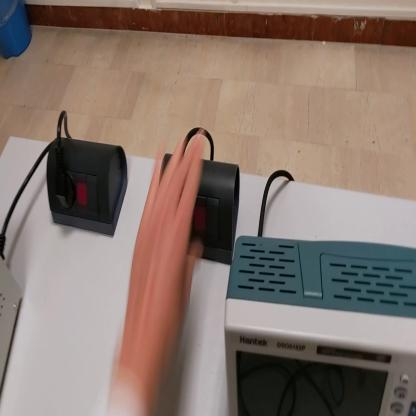hand: (116, 128, 205, 384)
oscilloscope: (225, 238, 416, 416)
power supply: (1, 249, 24, 394)
socket: (161, 151, 240, 270), (47, 138, 129, 237)
